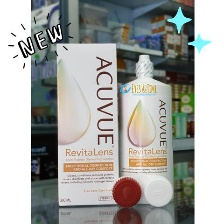book: (52, 40, 122, 212)
cleaning_solution: (117, 53, 176, 208)
